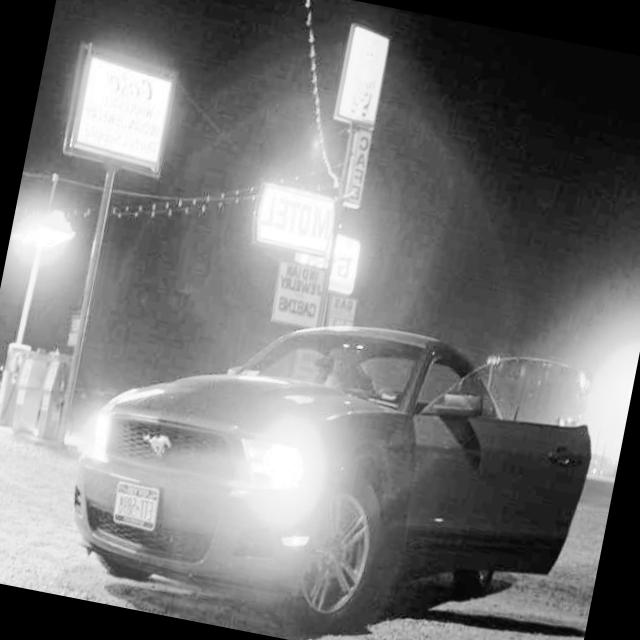Car: (46, 249, 602, 640)
